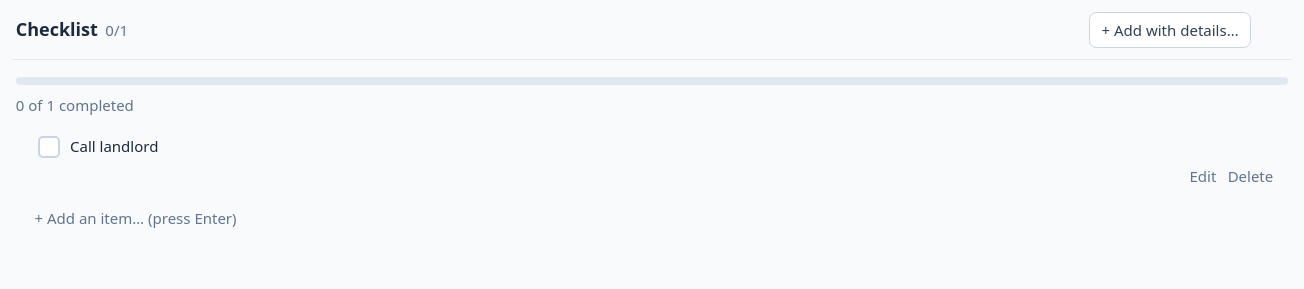
it: Checklist write failures › offers undo when the delete worked
Click the button with aria-label "Delete item".
click(1250, 176)  # box x1=1224 y1=162 x2=1277 y2=192
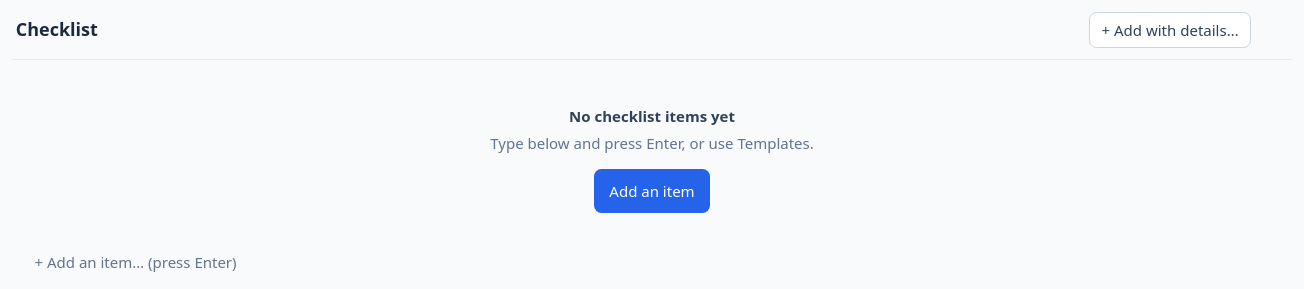
expect the text "Call landlord" is gone: met
